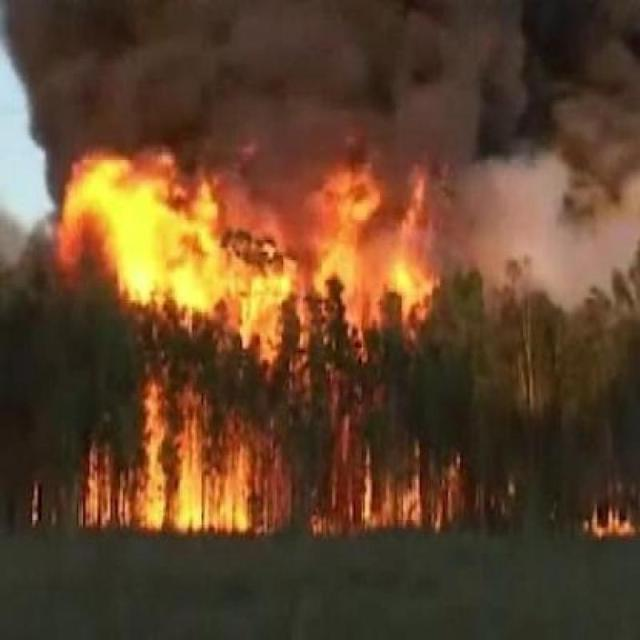Fire: (0, 185, 640, 540)
Smoke: (0, 0, 640, 170)
